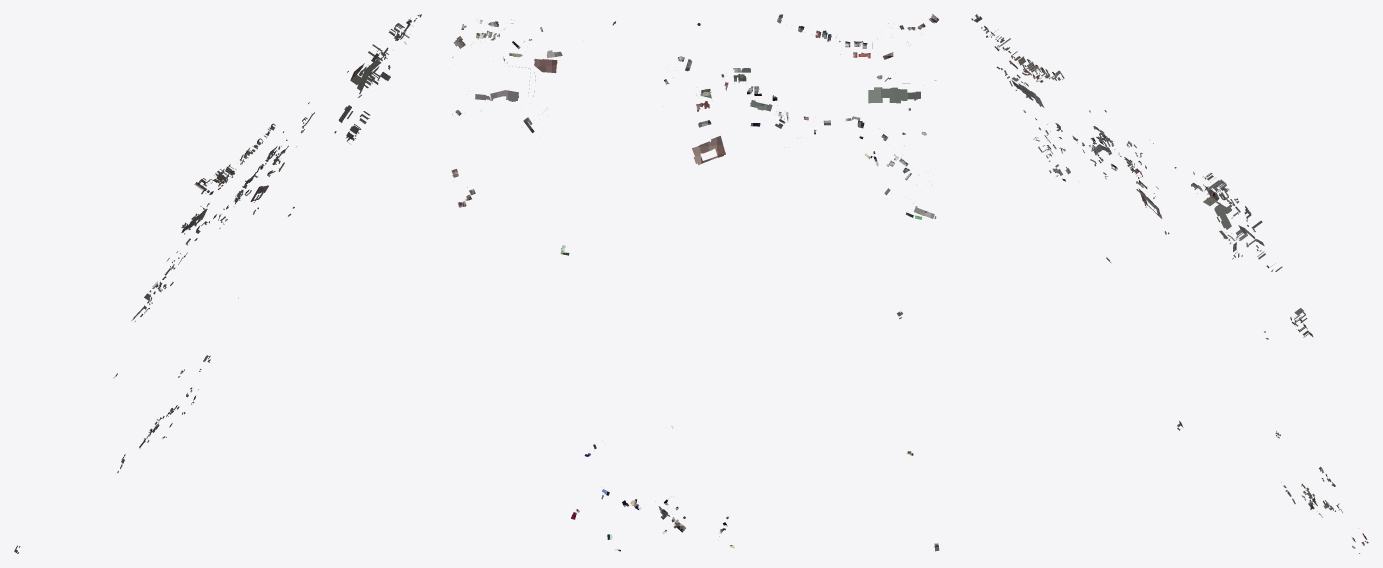
File: tile_LOD2_r1_c0.glb
The picture shows the model from 3 angles, left to right: view 1: azimuth 30°, elevation 25°; view 2: azimuth 150°, elevation 25°; view 3: azimuth 270°, elevation 25°; orthographic projection. The views are drawn at different scales.
Bounding box in the file's own units: 1374 × 1272 × 978.
Materials: 531 (531 with a texture image).
